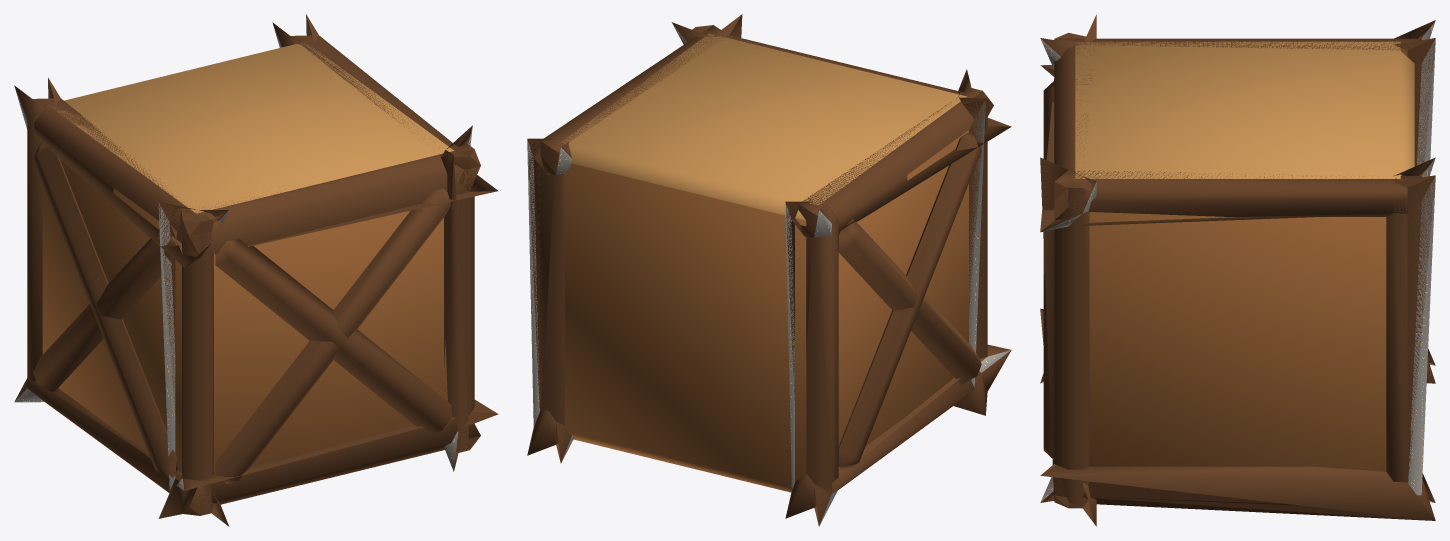
File: P_MedSmallCrate.fbx
3 renders of one model, left to right at view 1: azimuth 30°, elevation 25°; view 2: azimuth 150°, elevation 25°; view 3: azimuth 270°, elevation 25°, orthographic. The views are drawn at different scales.
Visible parts, largest first — view 1: M_SmallCrate; view 2: M_SmallCrate; view 3: M_SmallCrate.
Part boxes in pixels (x1,y1,x2,y2): M_SmallCrate: (14,14,498,526); M_SmallCrate: (527,14,1011,526); M_SmallCrate: (1040,14,1435,526).
Bounding box in the file's own units: 0.56 × 0.54 × 0.56.
Materials: 1 (1 with a texture image).
